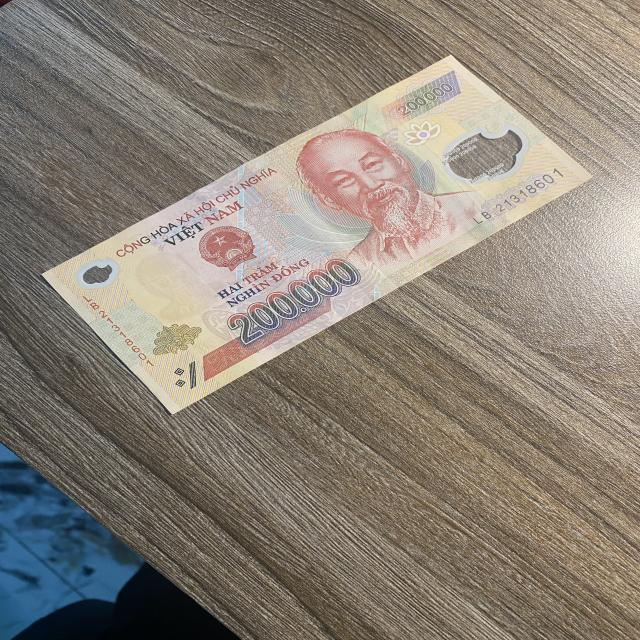200 000 VND: (41, 53, 596, 416)
